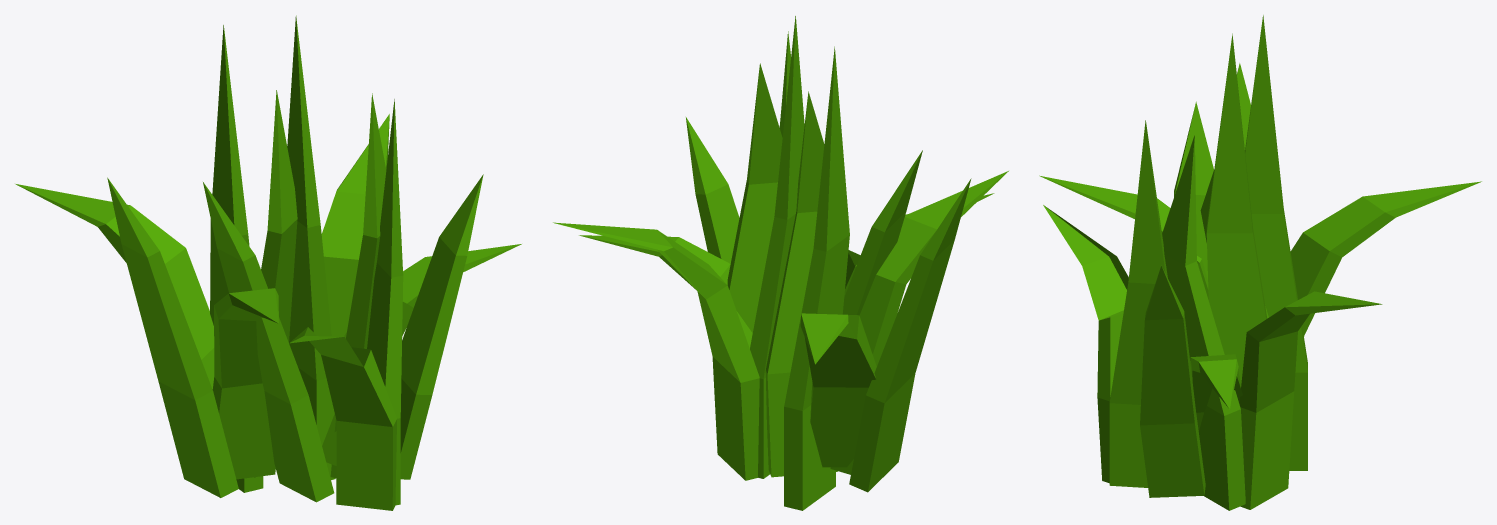
The model's file is Trava02.glb.
3 views of the same model, side by side, from view 1: azimuth 30°, elevation 25°; view 2: azimuth 150°, elevation 25°; view 3: azimuth 270°, elevation 25° (orthographic). The views are drawn at different scales.
Visible parts, largest first — view 1: Cube.013; view 2: Cube.013; view 3: Cube.013.
Boxes of the visible parts, left/top/right/bottom form: Cube.013: left=15, top=15, right=521, bottom=510; Cube.013: left=553, top=16, right=1008, bottom=510; Cube.013: left=1039, top=15, right=1481, bottom=510.
Bounding box in the file's own units: 0.1389 × 0.1524 × 0.1363.
